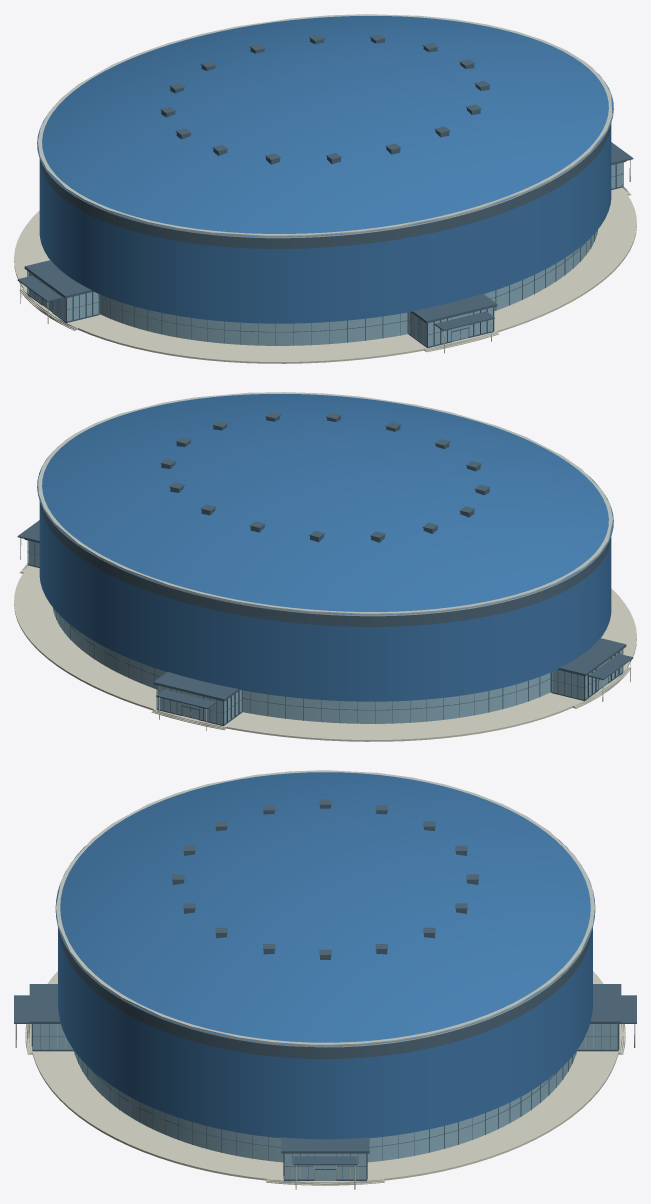
File: innerscene-arena.glb
The picture shows the model from 3 angles, top to bottom: view 1: azimuth 30°, elevation 25°; view 2: azimuth 150°, elevation 25°; view 3: azimuth 270°, elevation 25°; orthographic projection. The views are drawn at different scales.
Visible parts, largest first — view 1: Drum, Concourse interior, Concourse glass, Concourse mullions, Drum louvres; view 2: Drum, Concourse interior, Concourse glass, Concourse mullions, Drum louvres; view 3: Drum, Concourse interior, Concourse glass, Concourse mullions, Drum louvres.
Part boxes in pixels (x1=…): Drum: x1=20, y1=14, x2=630, y2=353; Concourse interior: x1=14, y1=184, x2=636, y2=363; Concourse glass: x1=29, y1=163, x2=621, y2=346; Concourse mullions: x1=17, y1=34, x2=633, y2=348; Drum louvres: x1=39, y1=122, x2=611, y2=248; Drum: x1=20, y1=392, x2=630, y2=730; Concourse interior: x1=14, y1=562, x2=636, y2=741; Concourse glass: x1=29, y1=541, x2=621, y2=724; Concourse mullions: x1=17, y1=412, x2=633, y2=726; Drum louvres: x1=39, y1=500, x2=611, y2=626; Drum: x1=15, y1=770, x2=635, y2=1189; Concourse interior: x1=25, y1=971, x2=625, y2=1185; Concourse glass: x1=33, y1=1024, x2=617, y2=1179; Concourse mullions: x1=14, y1=799, x2=636, y2=1180; Drum louvres: x1=58, y1=928, x2=592, y2=1058.
Bounding box in the file's own units: 159 × 39.45 × 135.
